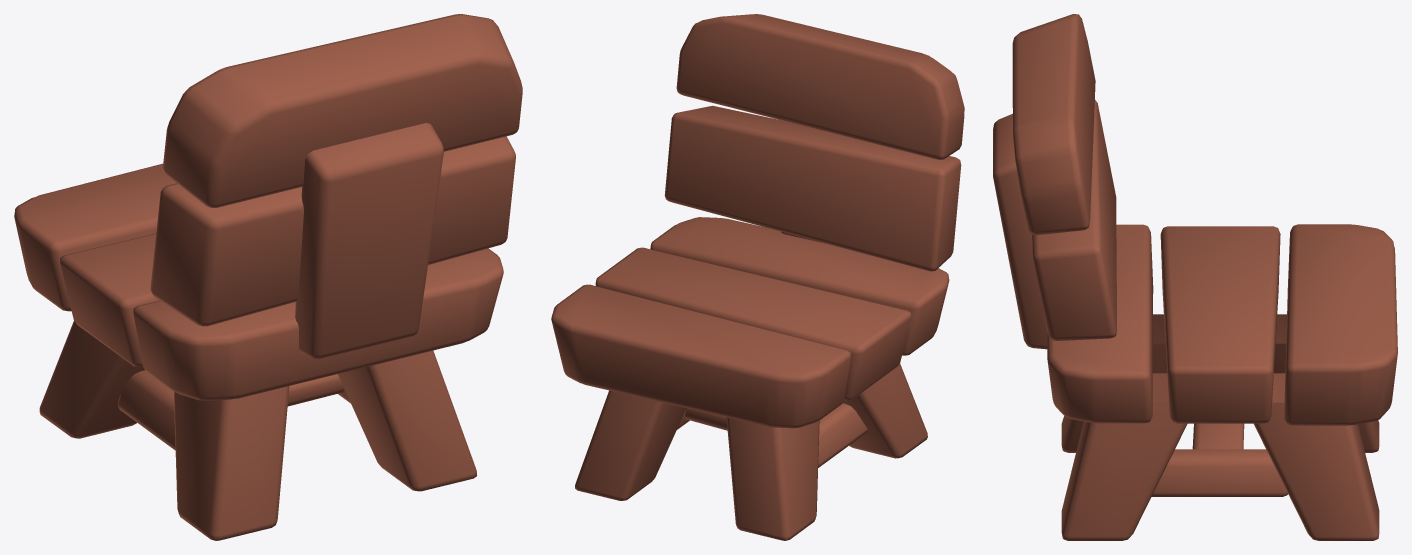
The model's file is chair.glb.
The picture shows the model from 3 angles, left to right: view 1: azimuth 30°, elevation 25°; view 2: azimuth 150°, elevation 25°; view 3: azimuth 270°, elevation 25°; orthographic projection. The views are drawn at different scales.
Visible parts, largest first — view 1: chair; view 2: chair; view 3: chair.
Part boxes in pixels (left/top/right/bottom): chair: left=14, top=14, right=522, bottom=540; chair: left=551, top=14, right=964, bottom=540; chair: left=993, top=14, right=1397, bottom=540.
Bounding box in the file's own units: 0.7466 × 0.9909 × 0.8697.
